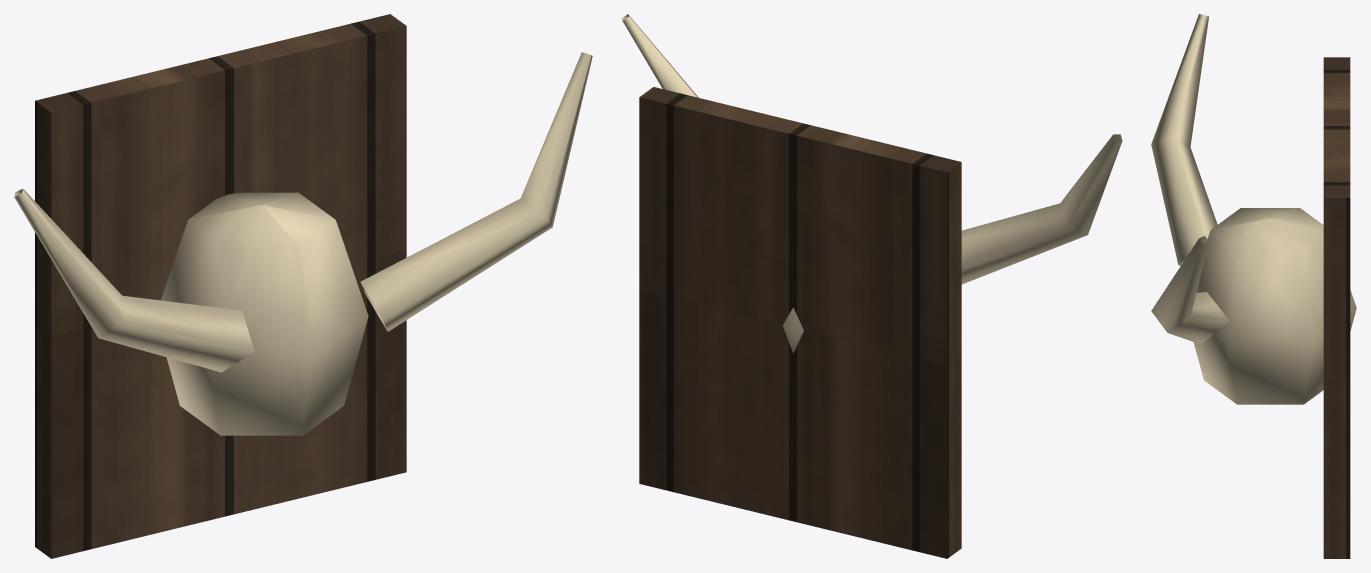
The model's file is Trophy_Skull_1_LOD1.gltf.
3 views of the same model, side by side, from view 1: azimuth 30°, elevation 25°; view 2: azimuth 150°, elevation 25°; view 3: azimuth 270°, elevation 25° (orthographic). The views are drawn at different scales.
Visible parts, largest first — view 1: Trophy_Skull_1_LOD1; view 2: Trophy_Skull_1_LOD1; view 3: Trophy_Skull_1_LOD1.
Boxes of the visible parts, x1,y1,x2,y2 form: Trophy_Skull_1_LOD1: (14,14,592,558); Trophy_Skull_1_LOD1: (621,14,1122,558); Trophy_Skull_1_LOD1: (1151,14,1356,558).
Size of the model in its own units: 0.8139 by 0.6037 by 0.3096.
Materials: 2 (2 with a texture image).
